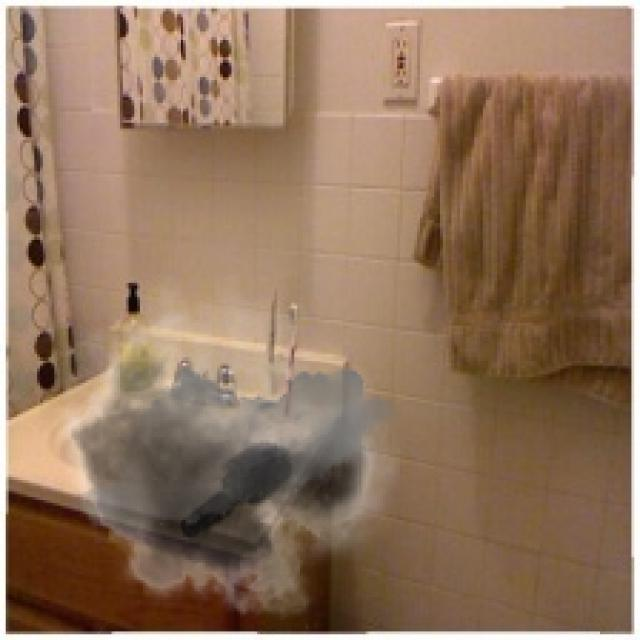Smoke: (40, 272, 400, 634)
